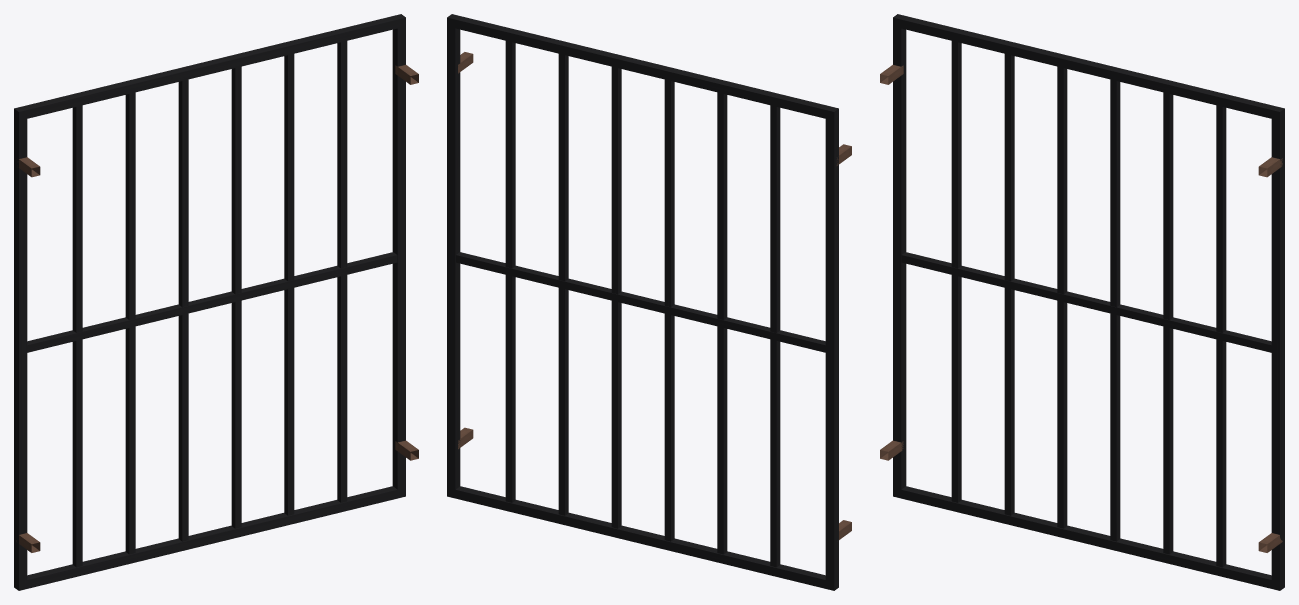
The model's file is FK_WindowGrille.fbx.
The picture shows the model from 3 angles, left to right: view 1: azimuth 30°, elevation 25°; view 2: azimuth 150°, elevation 25°; view 3: azimuth 330°, elevation 25°; orthographic projection.
Visible parts, largest first — view 1: FK_WindowGrille; view 2: FK_WindowGrille; view 3: FK_WindowGrille.
Boxes of the visible parts, bbox=[...] form: FK_WindowGrille: bbox=[14, 14, 418, 590]; FK_WindowGrille: bbox=[447, 14, 851, 590]; FK_WindowGrille: bbox=[880, 14, 1284, 590].
Size of the model in its own units: 1.1 by 1.3 by 0.087.
1 material, 1 textured.
